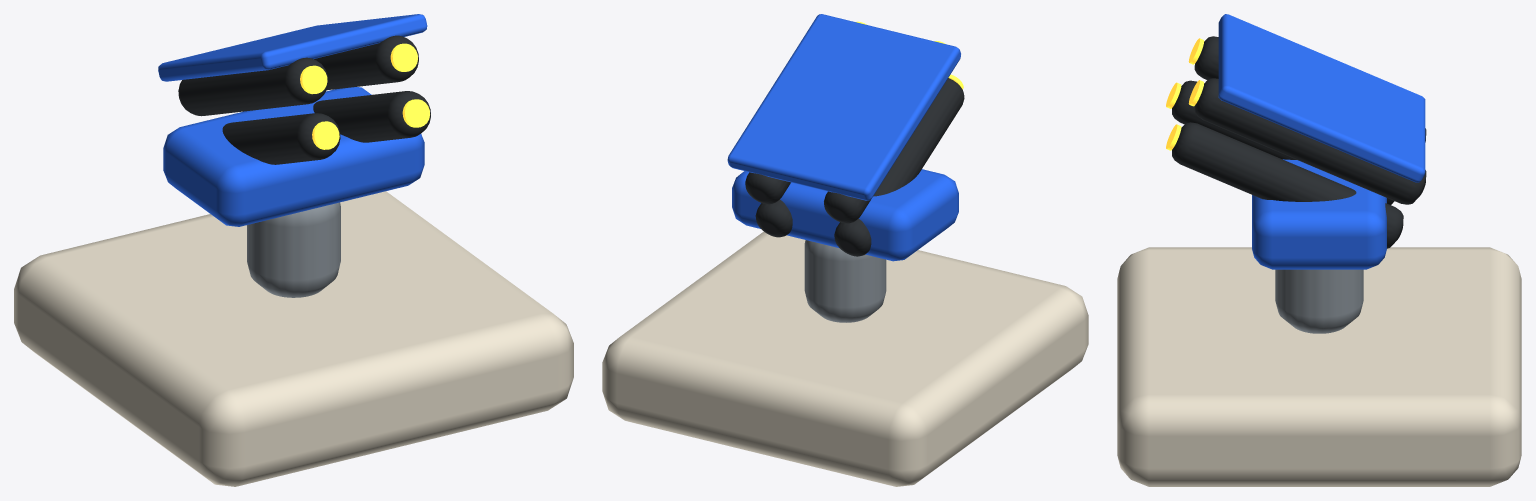
The model's file is sam_site.glb.
3 renders of one model, left to right at view 1: azimuth 30°, elevation 25°; view 2: azimuth 150°, elevation 25°; view 3: azimuth 270°, elevation 25°, orthographic. The views are drawn at different scales.
Visible parts, largest first — view 1: stage_1__M_CreamPlastic, turret__M_Team, barrel__M_Dark, barrel__M_Team, turret__M_SpringSteel, barrel__M_E_Amber; view 2: stage_1__M_CreamPlastic, barrel__M_Team, turret__M_Team, barrel__M_Dark, turret__M_SpringSteel; view 3: stage_1__M_CreamPlastic, barrel__M_Team, barrel__M_Dark, turret__M_Team, turret__M_SpringSteel, barrel__M_E_Amber.
Boxes of the visible parts, left/top/right/bottom form: stage_1__M_CreamPlastic: left=14, top=191, right=573, bottom=486; turret__M_Team: left=163, top=87, right=424, bottom=226; barrel__M_Dark: left=178, top=35, right=430, bottom=164; barrel__M_Team: left=158, top=14, right=427, bottom=81; turret__M_SpringSteel: left=247, top=202, right=340, bottom=297; barrel__M_E_Amber: left=300, top=43, right=429, bottom=149; stage_1__M_CreamPlastic: left=602, top=231, right=1088, bottom=486; barrel__M_Team: left=727, top=14, right=960, bottom=200; turret__M_Team: left=732, top=169, right=958, bottom=261; barrel__M_Dark: left=745, top=78, right=964, bottom=256; turret__M_SpringSteel: left=804, top=240, right=886, bottom=322; stage_1__M_CreamPlastic: left=1117, top=247, right=1521, bottom=486; barrel__M_Team: left=1218, top=14, right=1425, bottom=182; barrel__M_Dark: left=1172, top=36, right=1426, bottom=248; turret__M_Team: left=1252, top=159, right=1386, bottom=269; turret__M_SpringSteel: left=1275, top=269, right=1363, bottom=333; barrel__M_E_Amber: left=1166, top=38, right=1204, bottom=150.
Size of the model in its own units: 0.9 by 0.8887 by 0.9.
